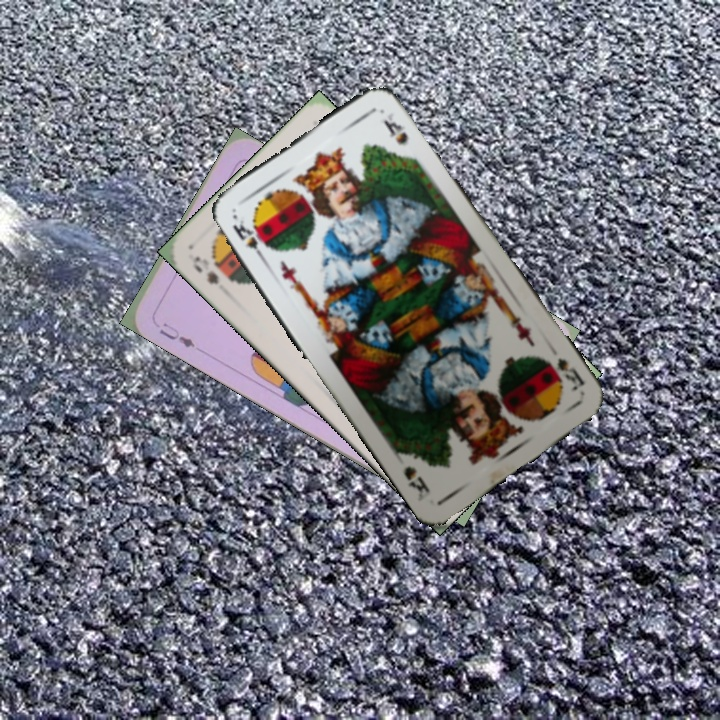EU: (155, 318, 198, 351)
SK: (228, 215, 268, 264), (552, 353, 588, 395)
SO: (188, 251, 222, 287)
